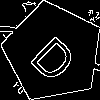D: (28, 27, 85, 85)
